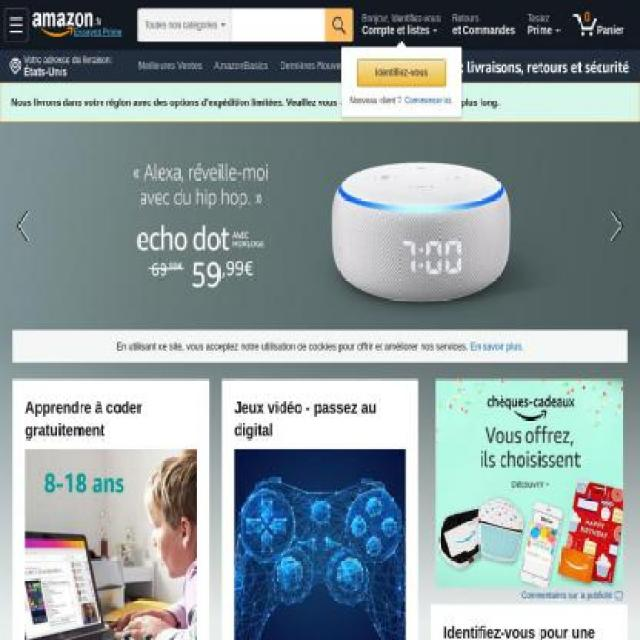button: (233, 448, 407, 640), (25, 448, 198, 640), (0, 122, 51, 330), (590, 122, 639, 330), (390, 50, 639, 84), (32, 4, 134, 45), (356, 5, 446, 47), (7, 51, 119, 83), (4, 8, 116, 38), (446, 5, 522, 47), (567, 5, 638, 47), (356, 59, 447, 87), (274, 55, 366, 77), (522, 5, 566, 47), (132, 165, 214, 187), (245, 128, 322, 150), (132, 55, 208, 77), (252, 165, 328, 187), (215, 92, 290, 113), (176, 128, 244, 150), (209, 55, 273, 77), (522, 590, 623, 602), (291, 92, 347, 113), (133, 92, 181, 113), (133, 128, 175, 150), (214, 165, 252, 187), (4, 8, 28, 41), (181, 92, 214, 113), (348, 92, 375, 113), (74, 28, 123, 37)
field: (231, 8, 326, 41), (325, 8, 353, 41)
